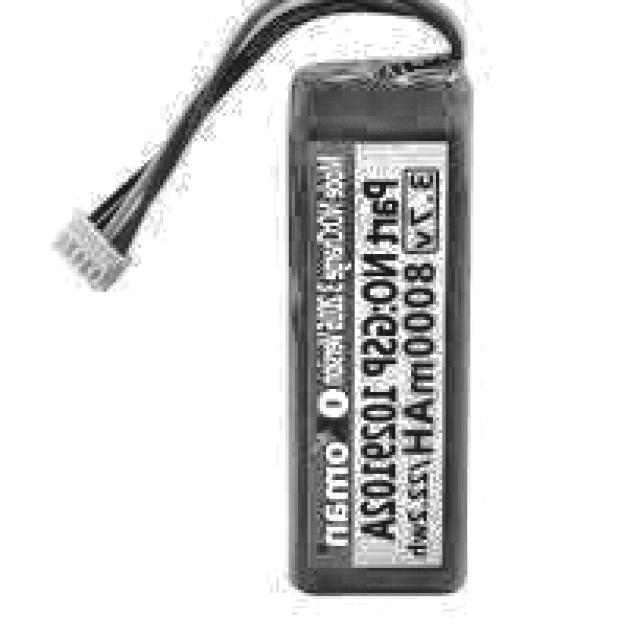Battery: (286, 47, 470, 593)
